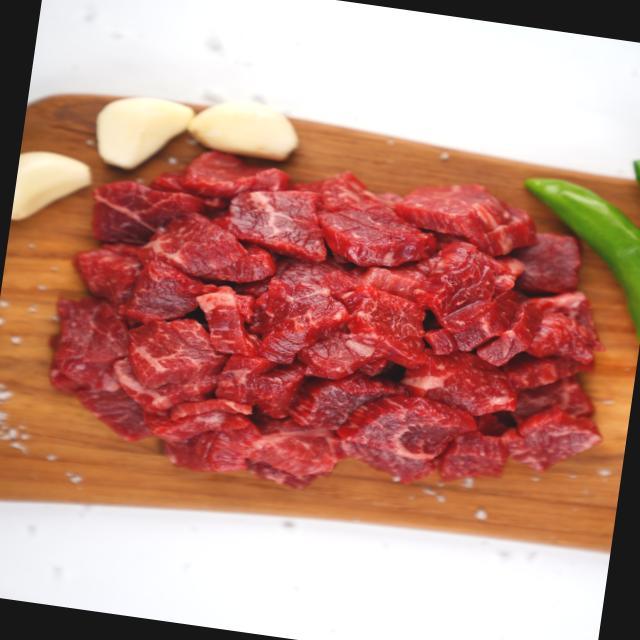beef: (88, 156, 560, 462)
